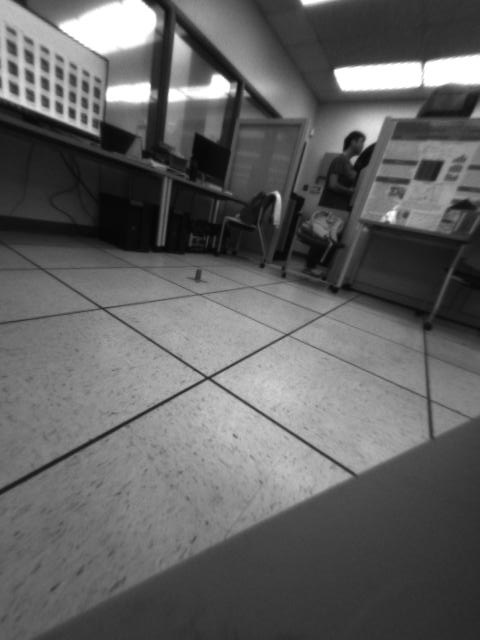X: (185, 268, 206, 284)
